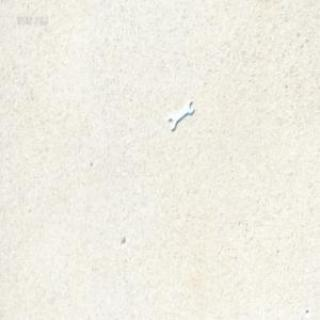Wrenchtrack_idkeyframe: (167, 98, 193, 130)
